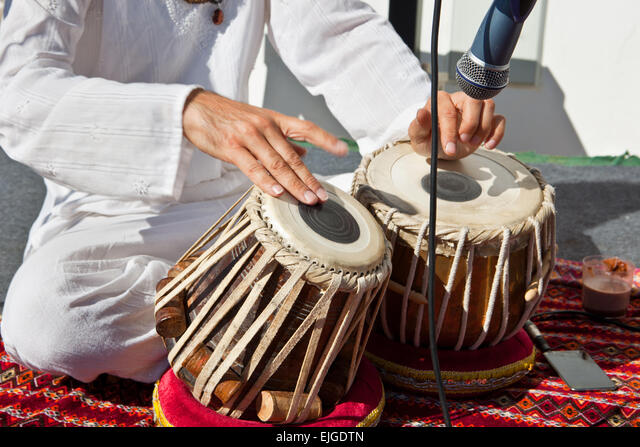tabla: (158, 174, 388, 412), (352, 142, 560, 344)
